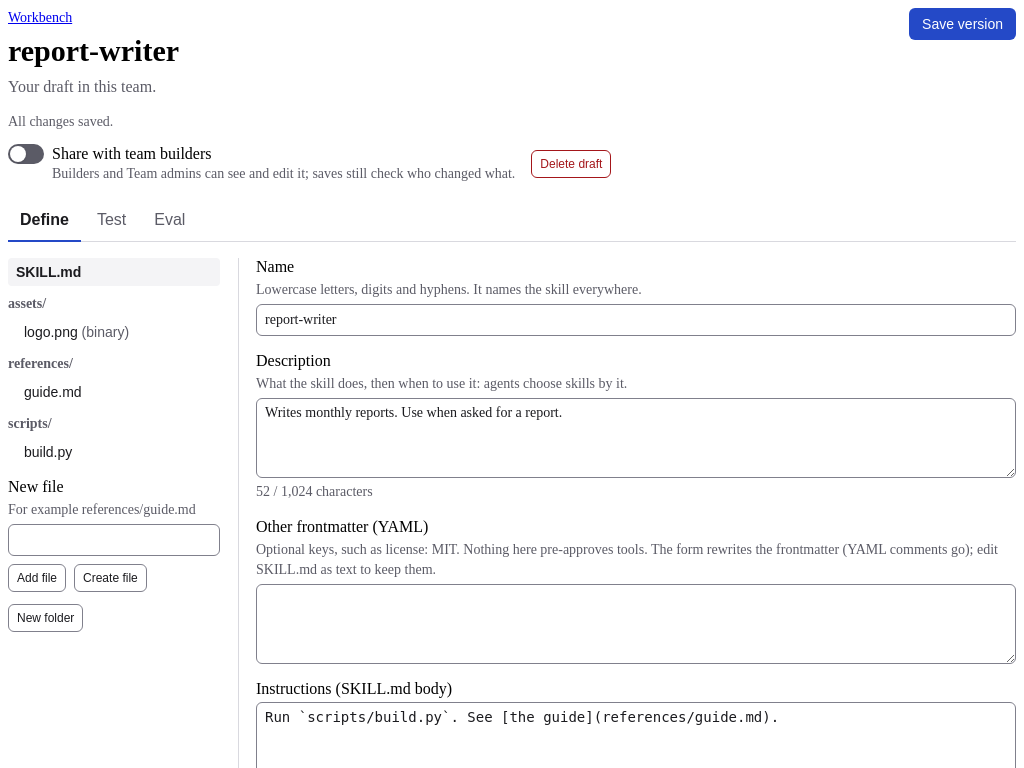
Workbench editor: Save version (ac-3) › keeps the number the author typed and shows the server's refusal
Check: the field showing "report-writer" is shown, box [256,304,1016,336]
Step 1. Click the button "Save version" → [963, 24], box [909,8,1016,40]
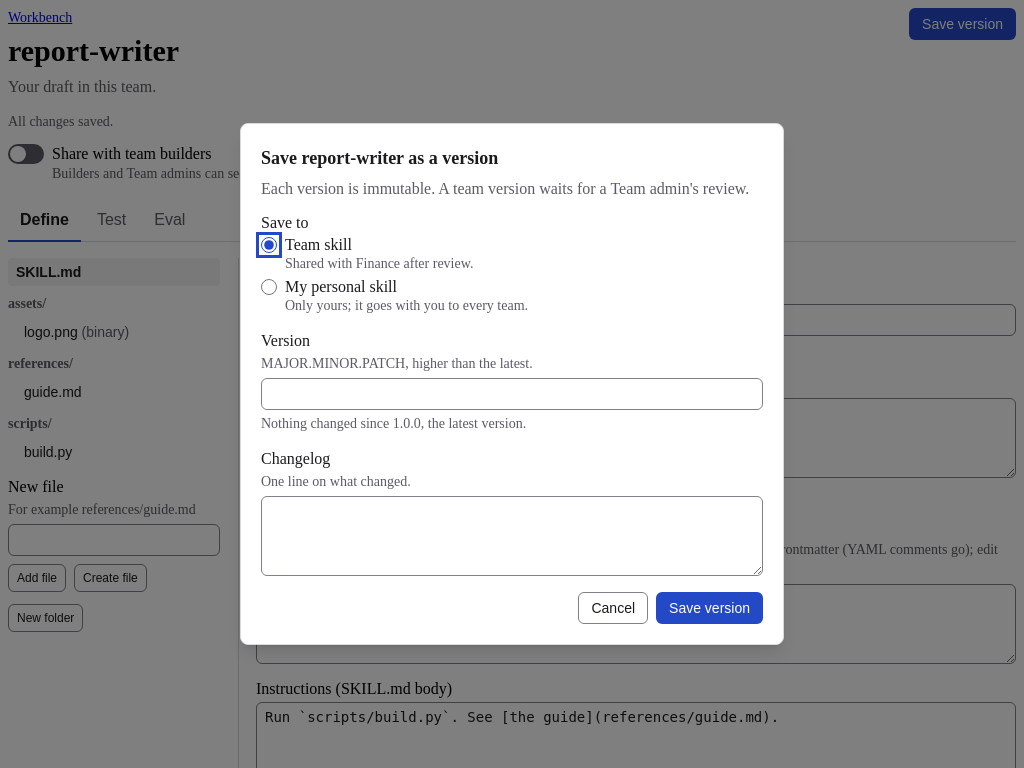
Check: the text "Nothing changed since 1.0.0, the latest version." is shown, box [261,416,526,431]
Step 2. Type "1.0.1" into the field labelled "Version" → [512, 394], box [261,378,763,410]
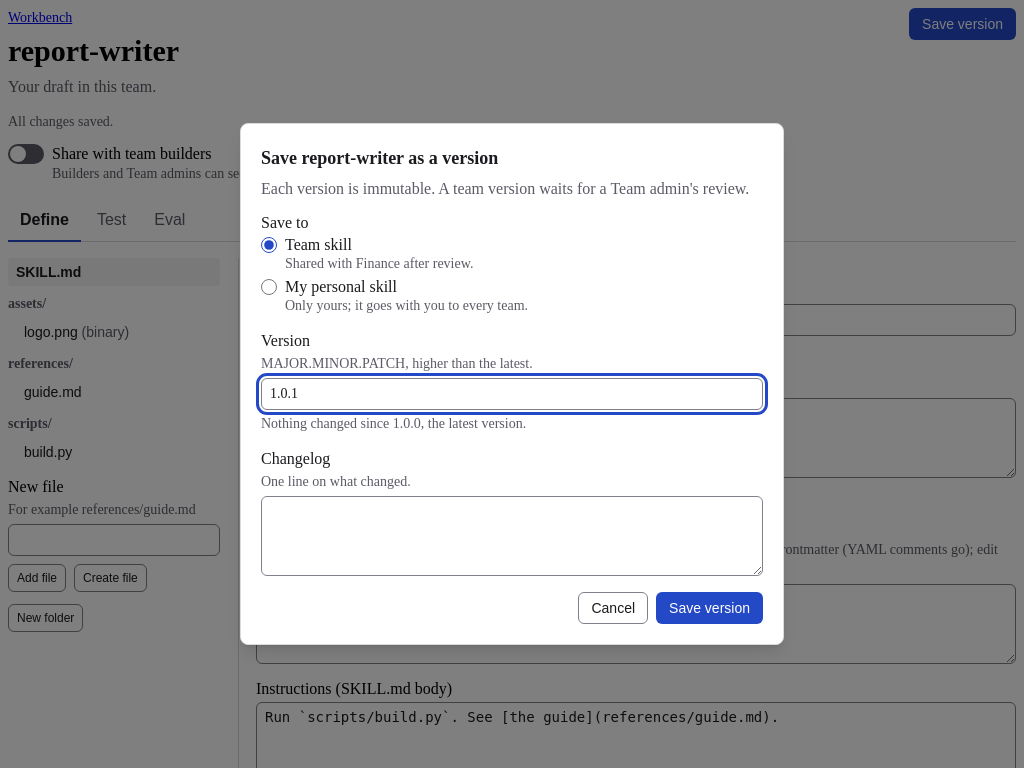
Step 3. Type "Again." into the text box labelled "Changelog" → [512, 536], box [261,496,763,576]
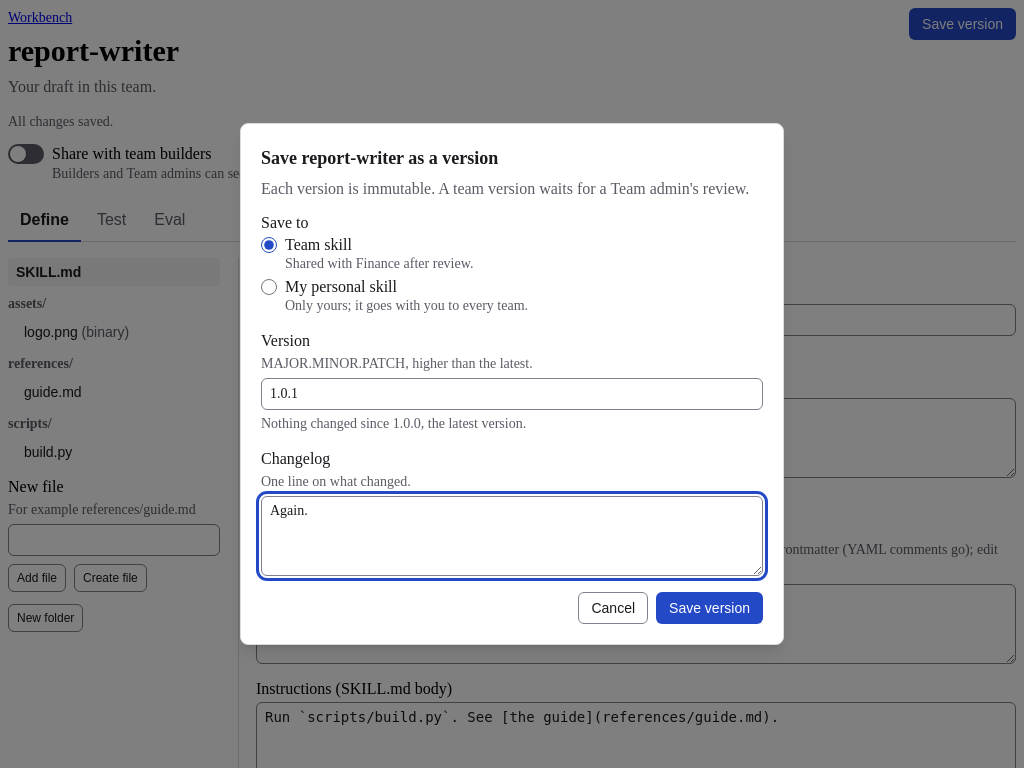
Step 4. Click the button "Save version" → [710, 608], box [656,592,763,624]
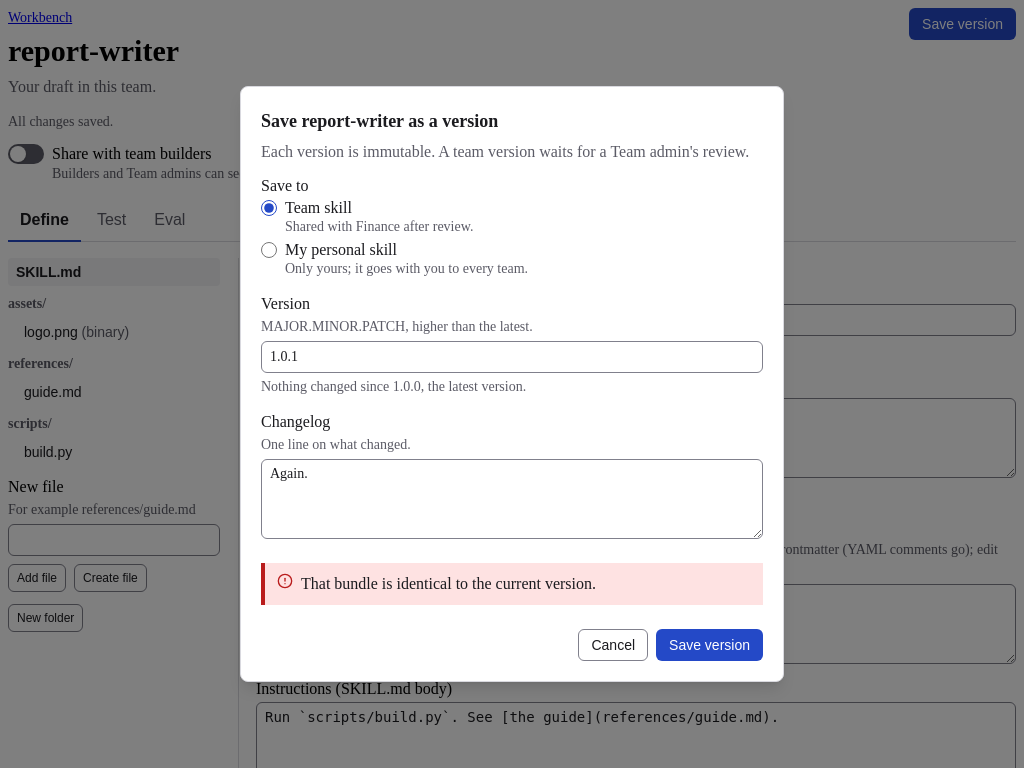
Check: the text "That bundle is identical to the current version." is shown, box [301,575,596,592]
